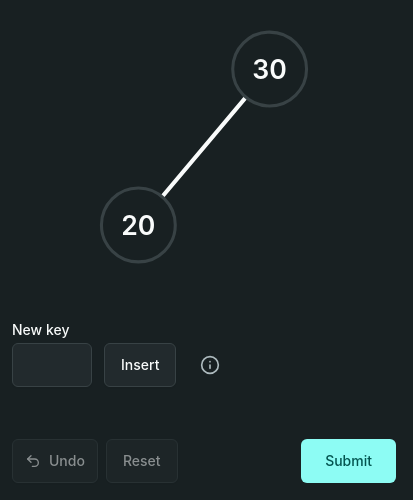
undoes moves, resets, and rejects a key that is already there
The width and height of the screenshot is (413, 500).
Step 1. Type "20" into the field labelled "New key" → [52, 365], box [12,343,92,387]
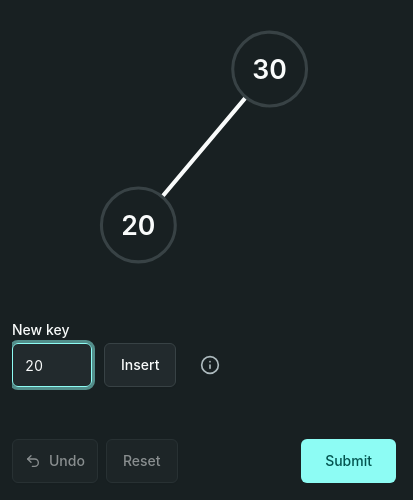
Step 2. Click the button "Insert" → [140, 365], box [104,343,176,387]
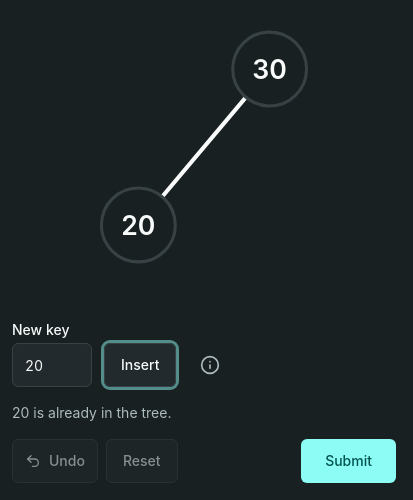
Expected: the button "Undo" is disabled, [12,439,98,483]
Step 3. Replace the text in the field labelled "New key" with "10" → [52, 365], box [12,343,92,387]
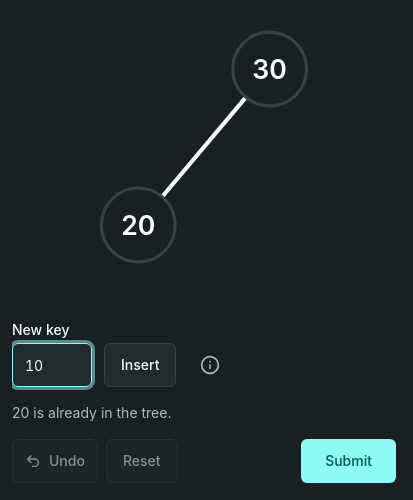
Step 4. Click the button "Insert" → [140, 365], box [104,343,176,387]
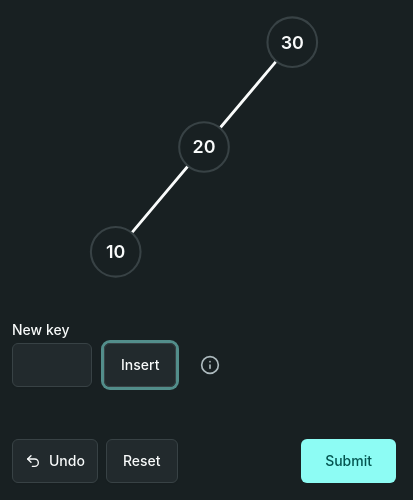
Expected: the button "10," is shown, [91,227,141,277]
Step 5. Click the button "Undo" → [55, 461], box [12,439,98,483]
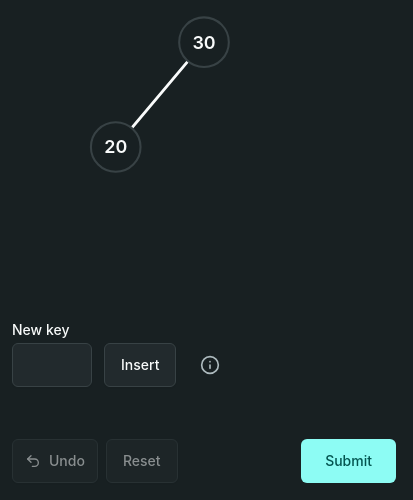
Now the button "Reset" is disabled, box [106,439,178,483]
